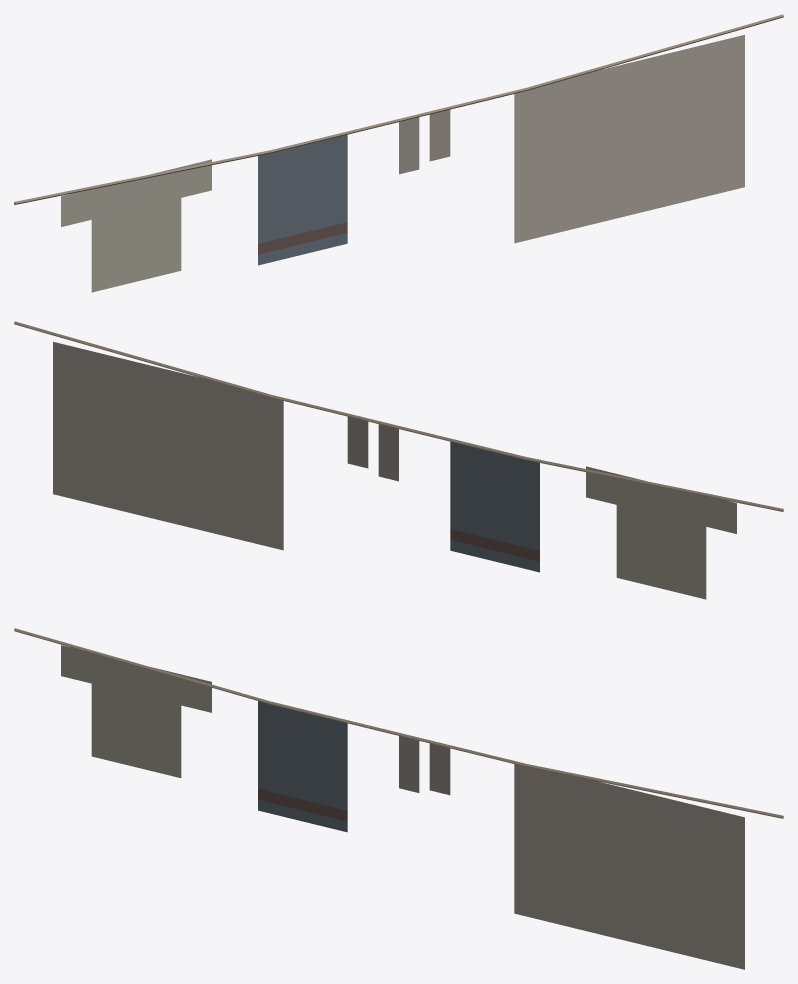
Rendered from laundry_line.glb.
3 views of the same model, one above another, from view 1: azimuth 30°, elevation 25°; view 2: azimuth 150°, elevation 25°; view 3: azimuth 330°, elevation 25° (orthographic).
Visible parts, largest first — view 1: laundry_line; view 2: laundry_line; view 3: laundry_line.
Part boxes in pixels (x1=…): laundry_line: x1=14, y1=14, x2=783, y2=292; laundry_line: x1=14, y1=321, x2=783, y2=599; laundry_line: x1=14, y1=628, x2=783, y2=969.
Bounding box in the file's own units: 3 × 0.61 × 0.01.
